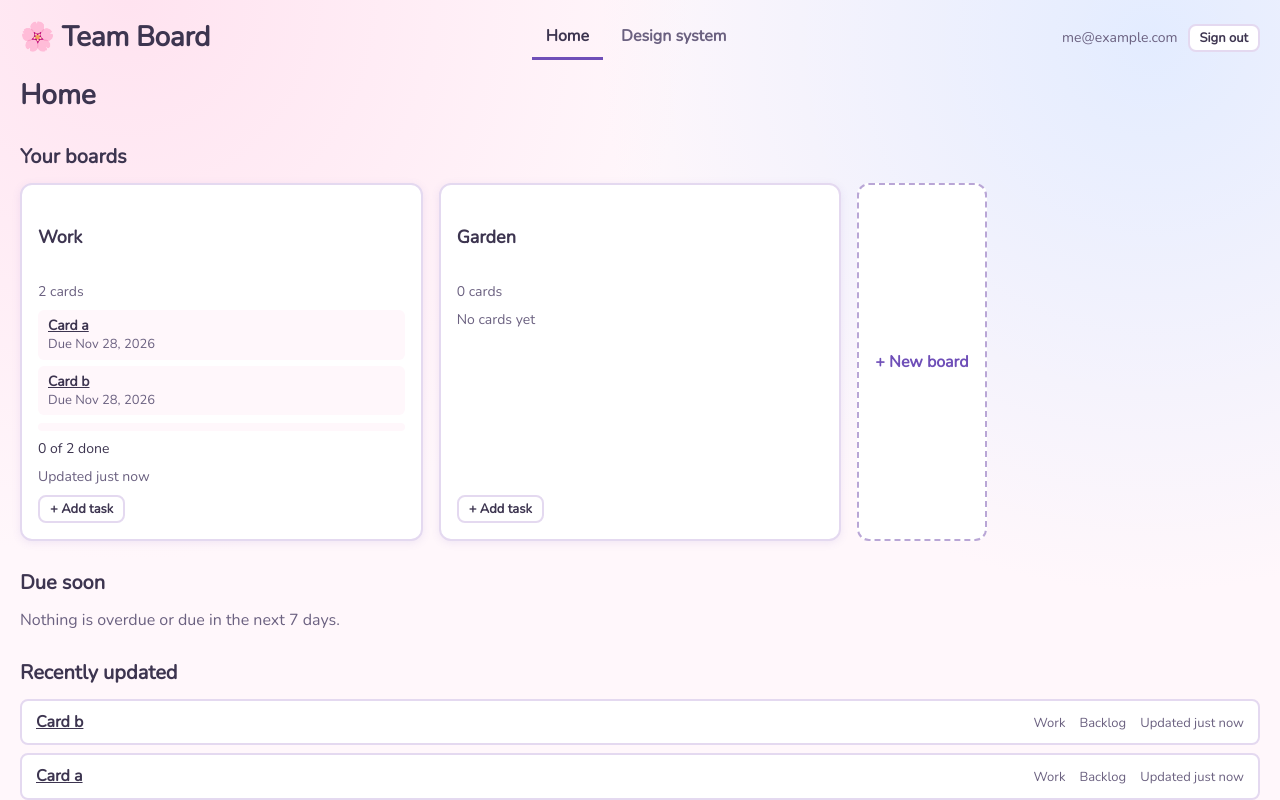
moving around › loads the design-system page on demand
The width and height of the screenshot is (1280, 800).
Click the link "Design system" at x=674, y=36, box [621, 25, 726, 47]
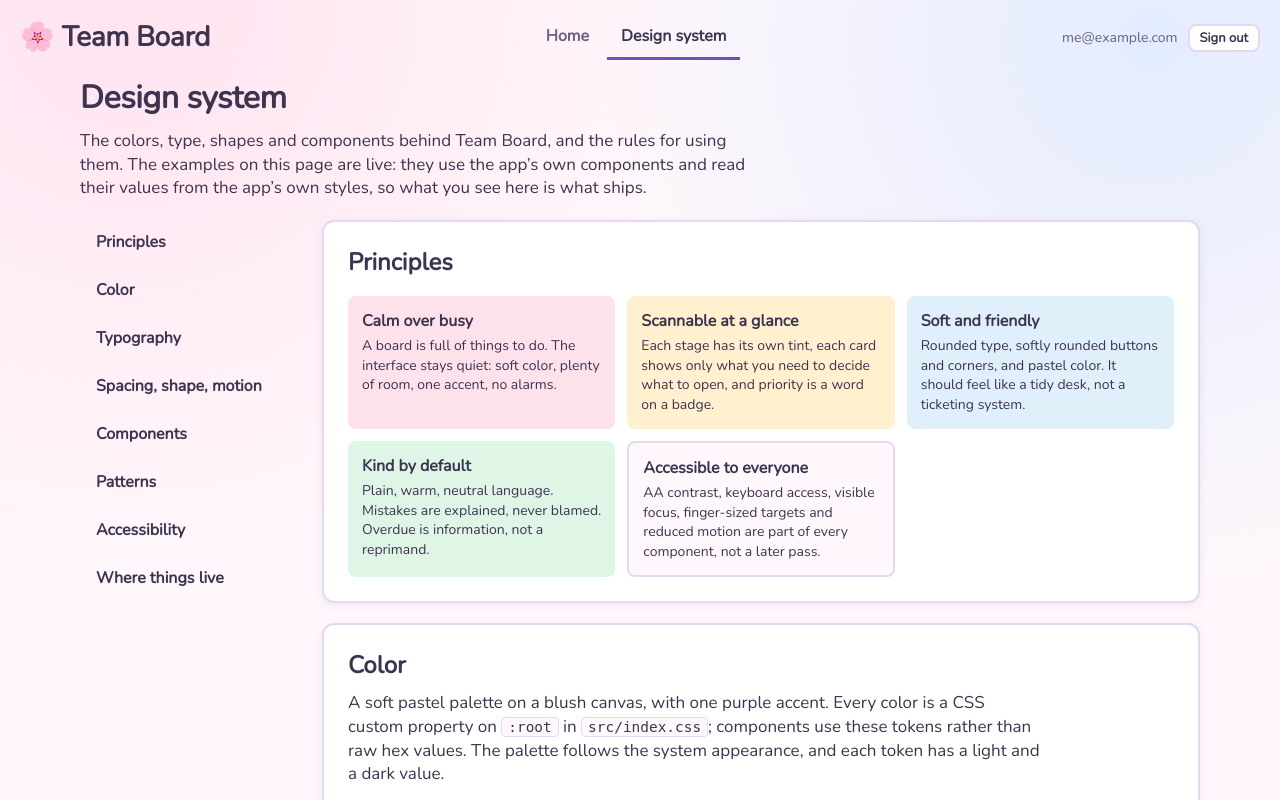
expect the heading "Design system" is shown: met, box [80, 76, 286, 119]
